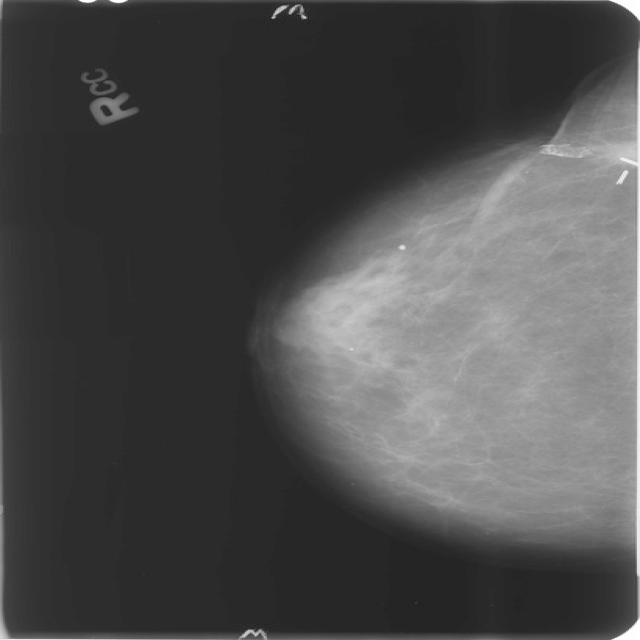tumour: (595, 138, 638, 163)
